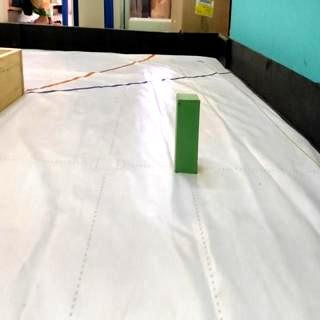greenbox: (175, 93, 201, 175)
